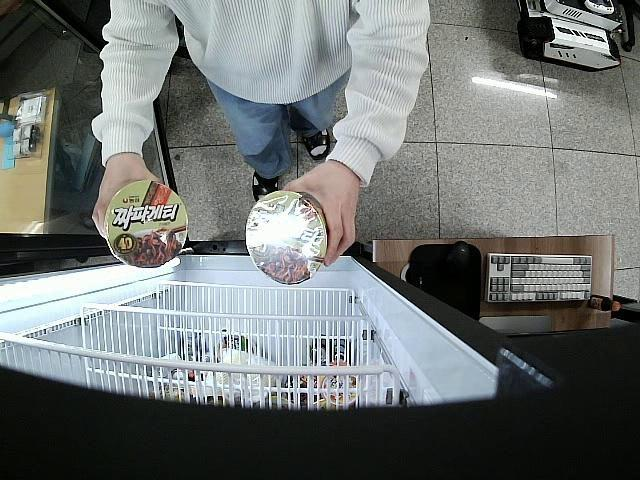03_chapagetti_L: (246, 192, 331, 284), (105, 182, 188, 268)
